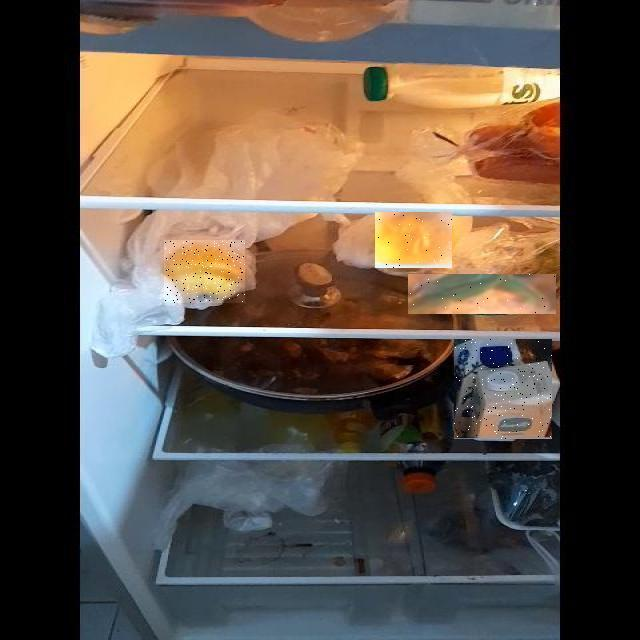milk: (178, 220, 640, 640)
